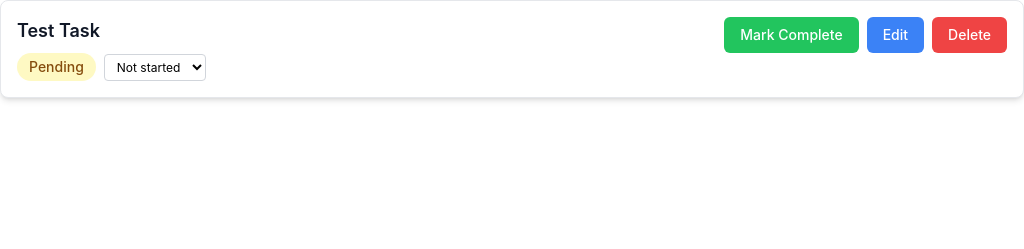
it: TaskItem Component › shows edit form when edit button is clicked
Click the button "Edit" at (895, 35), box [867,17,924,53]
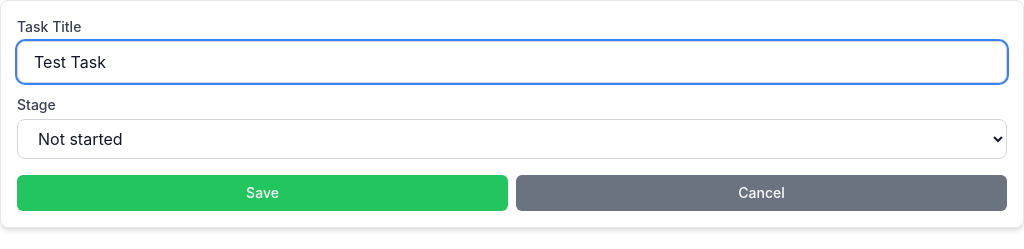
Check: the text "Task Title" is shown, box [17,18,81,35]
